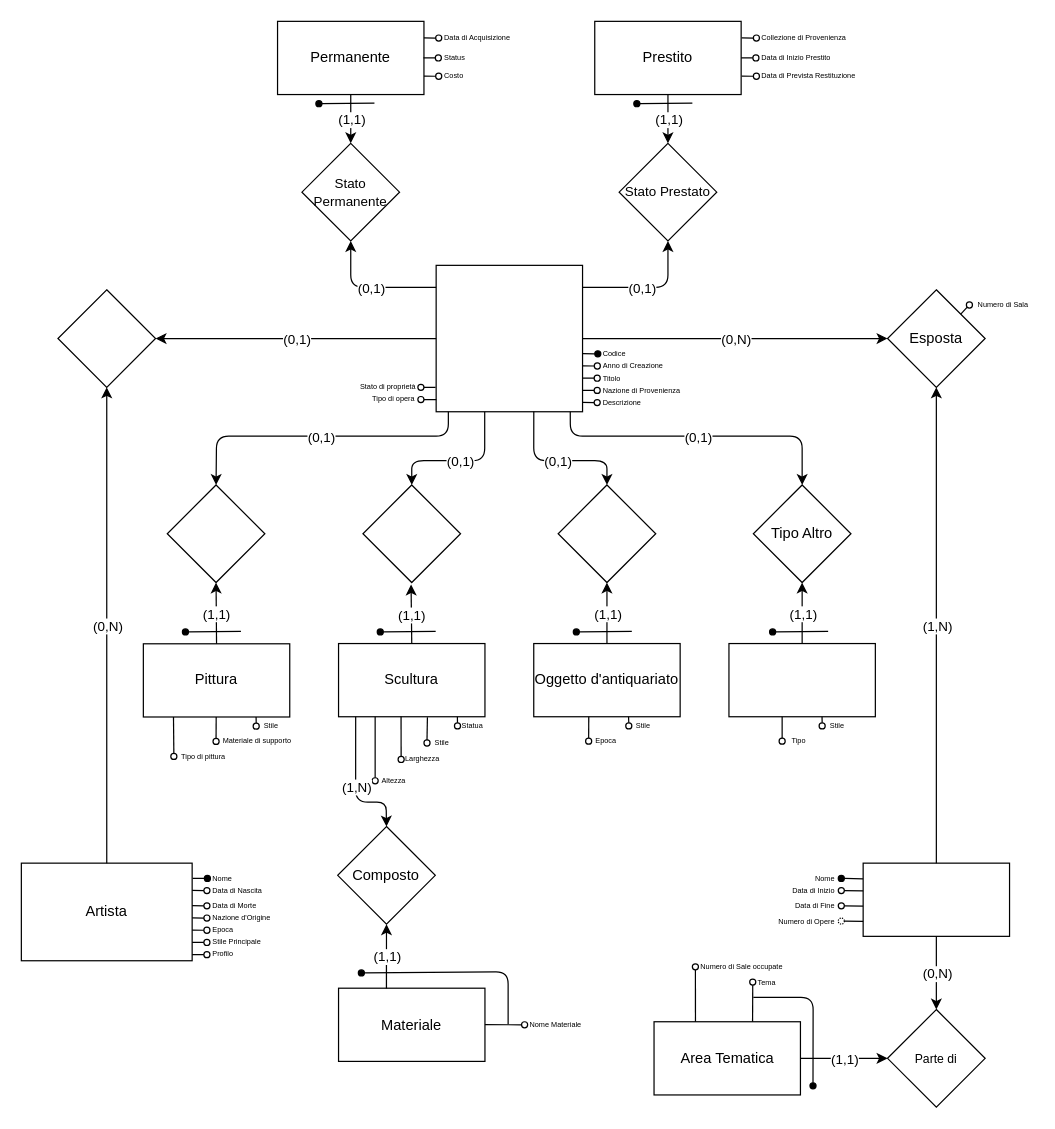
This 1055x1129 diagram has some shape labels left out. Each missing label, with the centre of its shape:
"Altro" belongs at [801,679].
"Esibizione" belongs at [936,899].
"Opere d'arte" belongs at [509,338].
"Realizzato" belongs at [106,338].
"Tipo Oggetto d'Antiquariato" belongs at [606,533].
"Tipo Pittura" belongs at [215,533].
"Tipo Scultura" belongs at [411,533].
